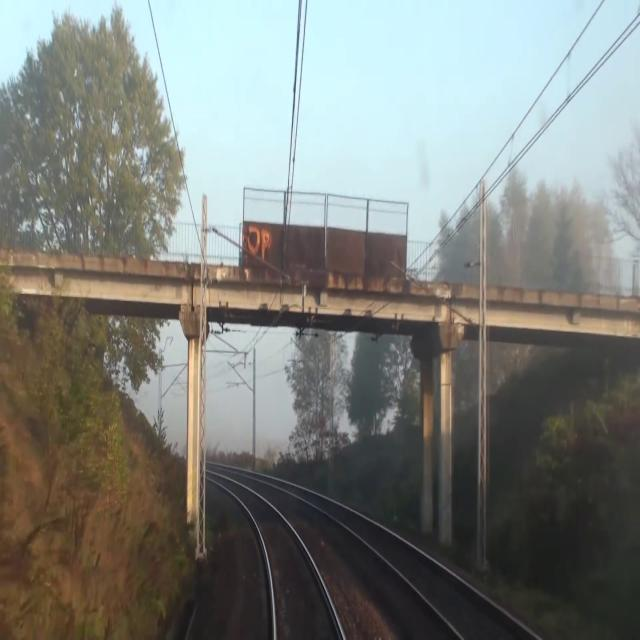rail-track: (314, 498, 533, 639), (230, 484, 340, 639)
